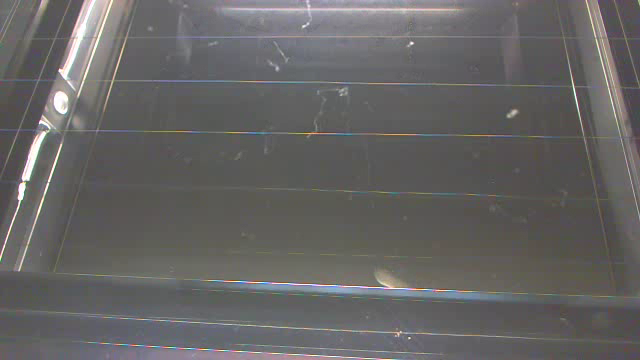Alfa: (362, 261, 425, 289)
